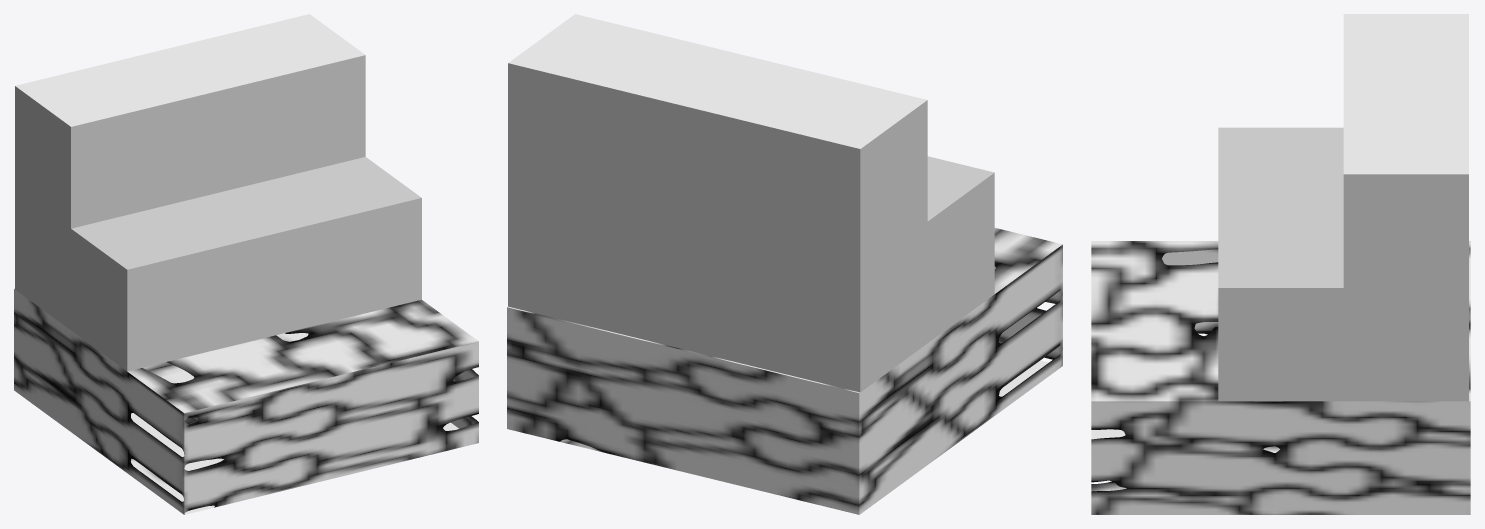
Rendered from STAIRS.fbx.
3 views of the same model, side by side, from view 1: azimuth 30°, elevation 25°; view 2: azimuth 150°, elevation 25°; view 3: azimuth 270°, elevation 25° (orthographic). The views are drawn at different scales.
Parts seen in each view (by area): view 1: Cube; view 2: Cube; view 3: Cube.
Part boxes in pixels (left/top/right/bottom): Cube: left=14, top=14, right=478, bottom=514; Cube: left=507, top=14, right=1062, bottom=514; Cube: left=1091, top=14, right=1470, bottom=514.
Bounding box in the file's own units: 200 × 198 × 200.
